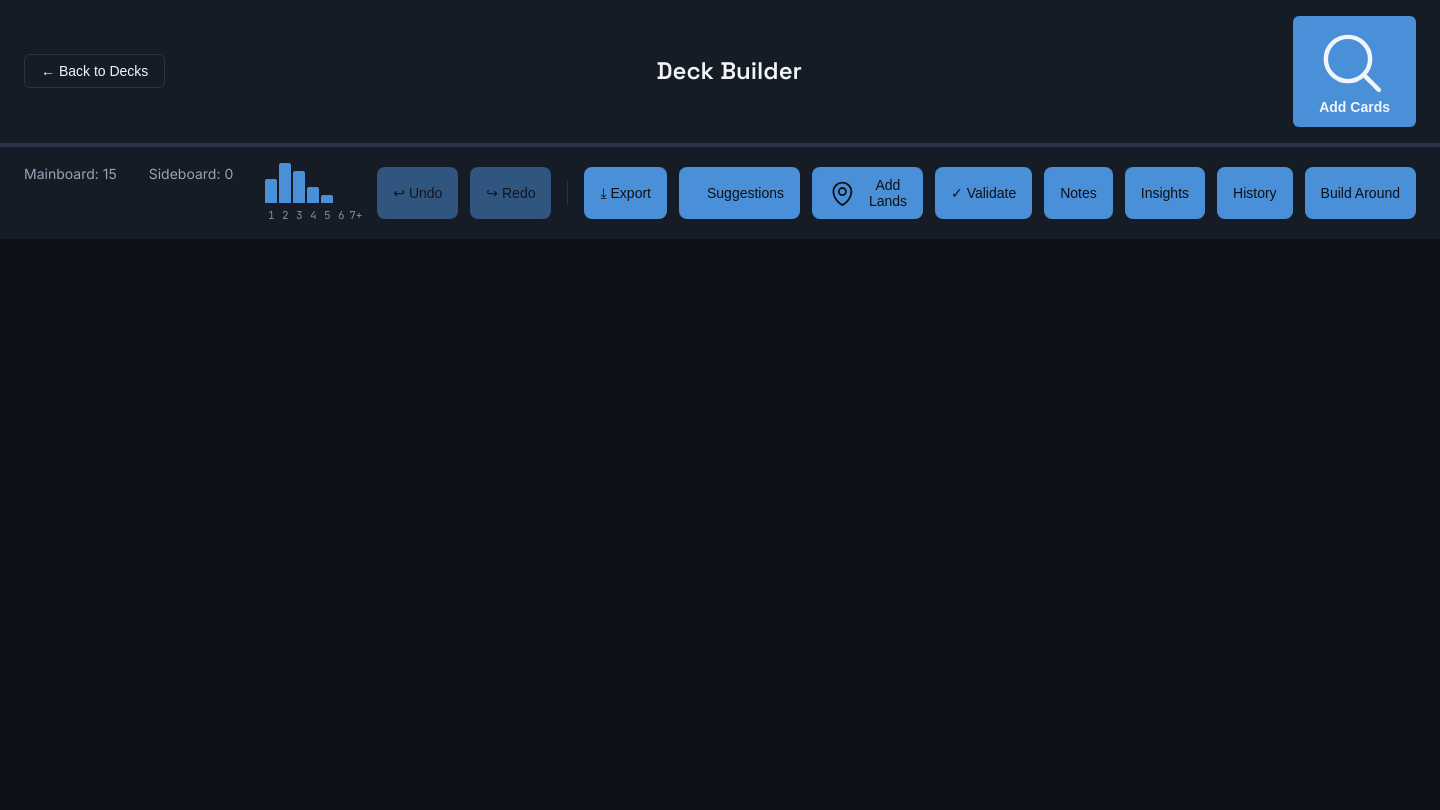
Test: DeckBuilder Component - Export and Validate › Build Around Functionality › should close Build Around modal when close button is clicked
Open modal
Click the button "Build Around". click: [1360, 193]
box: [1305,167,1416,219]
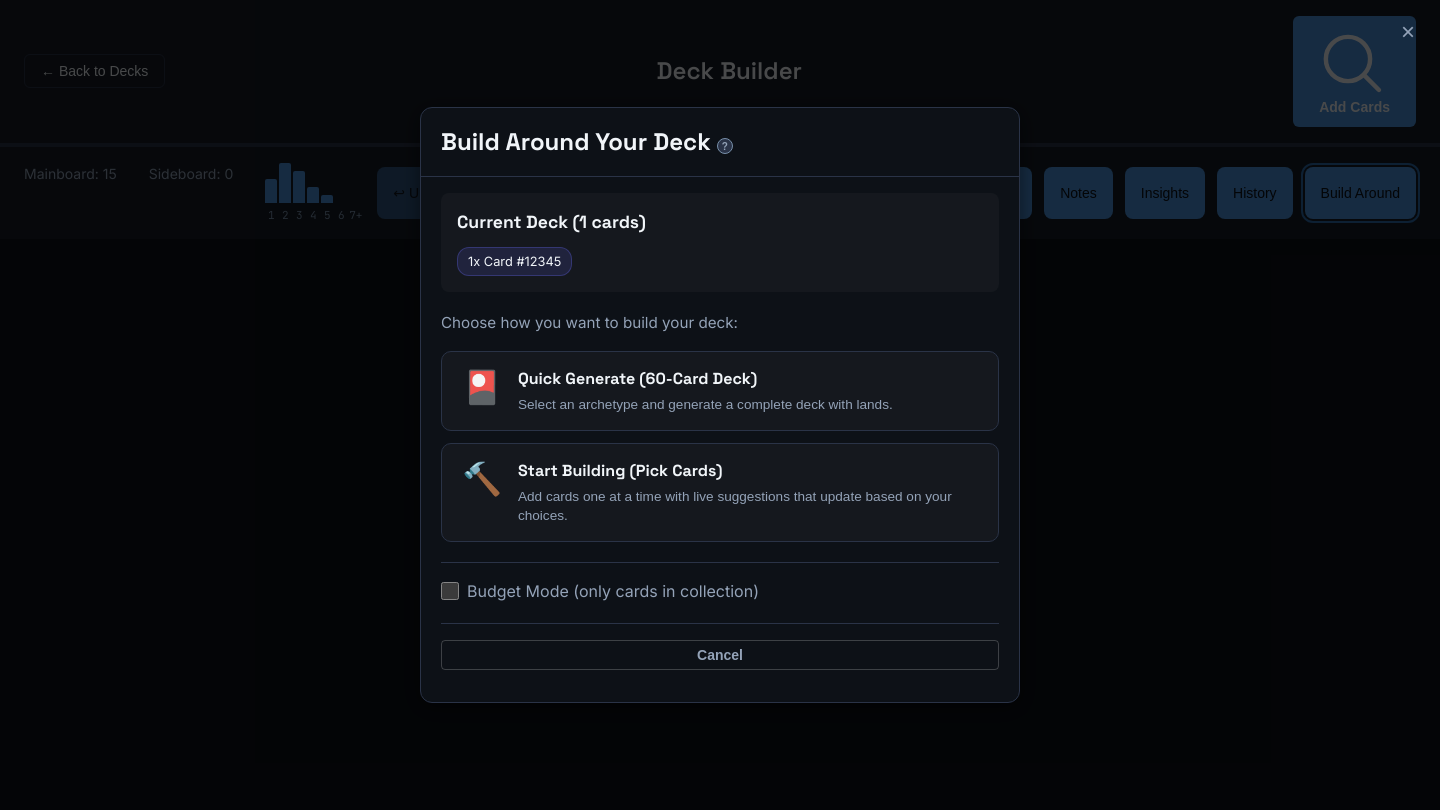
Now the heading "Build Around Your Deck ?" is shown, box [441,124,733,160]
Close modal using close button (within the modal header)
Click the button with class "close-button". click: [1408, 32]
box: [1392,16,1424,48]
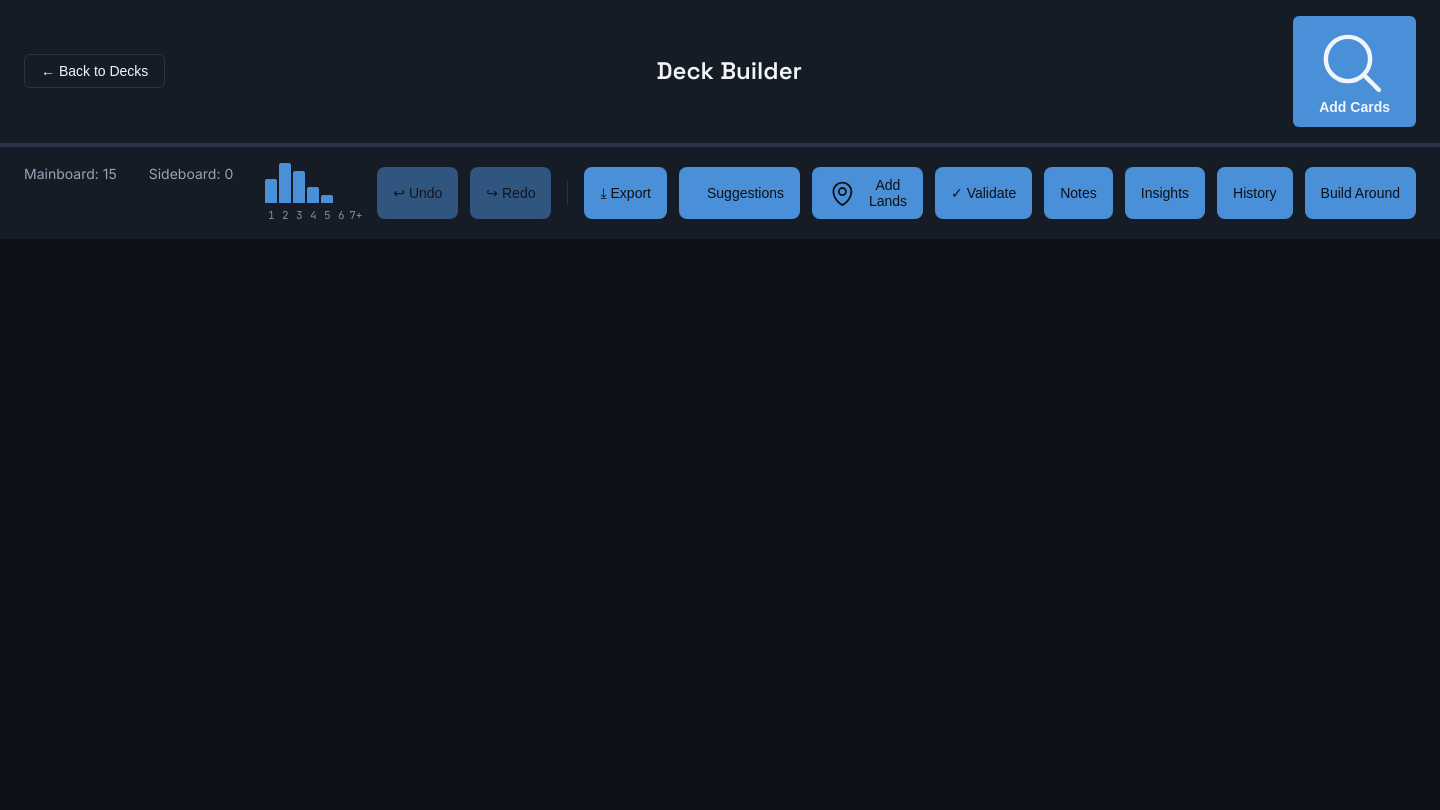
Now the heading "Build Around Your Deck" is gone
